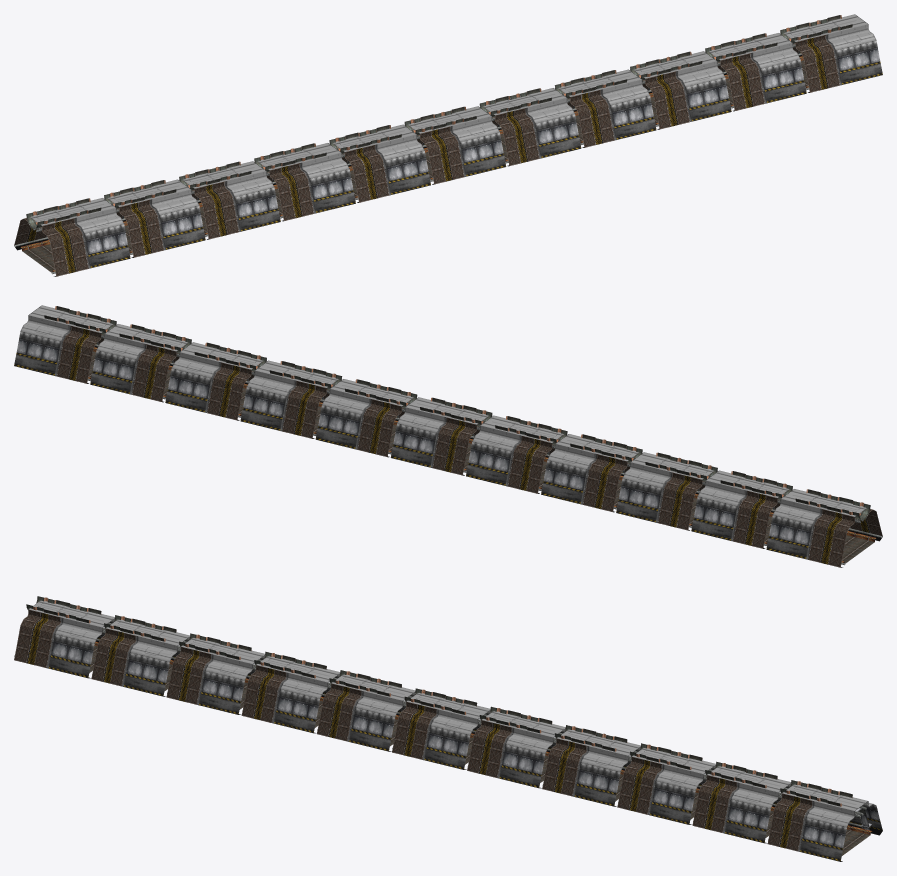
Rendered from testiram_cijelu_traku_traka4.obj.
3 views of the same model, one above another, from view 1: azimuth 30°, elevation 25°; view 2: azimuth 150°, elevation 25°; view 3: azimuth 330°, elevation 25° (orthographic).
Size of the model in its own units: 31.67 by 1.68 by 2.8.
